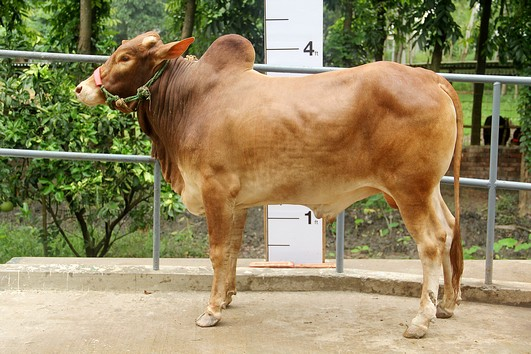cow: (64, 22, 470, 337)
